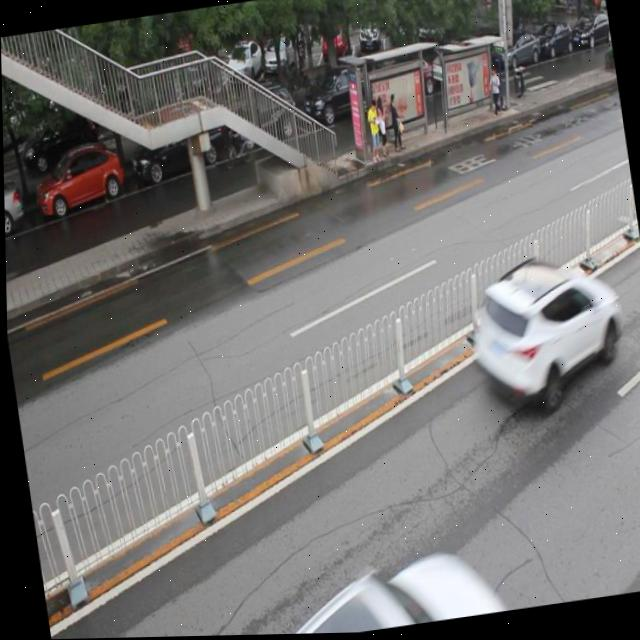car: (460, 249, 627, 422), (251, 546, 501, 636), (32, 140, 127, 217), (125, 109, 221, 185), (298, 60, 380, 133), (222, 83, 300, 153), (3, 169, 26, 240)
